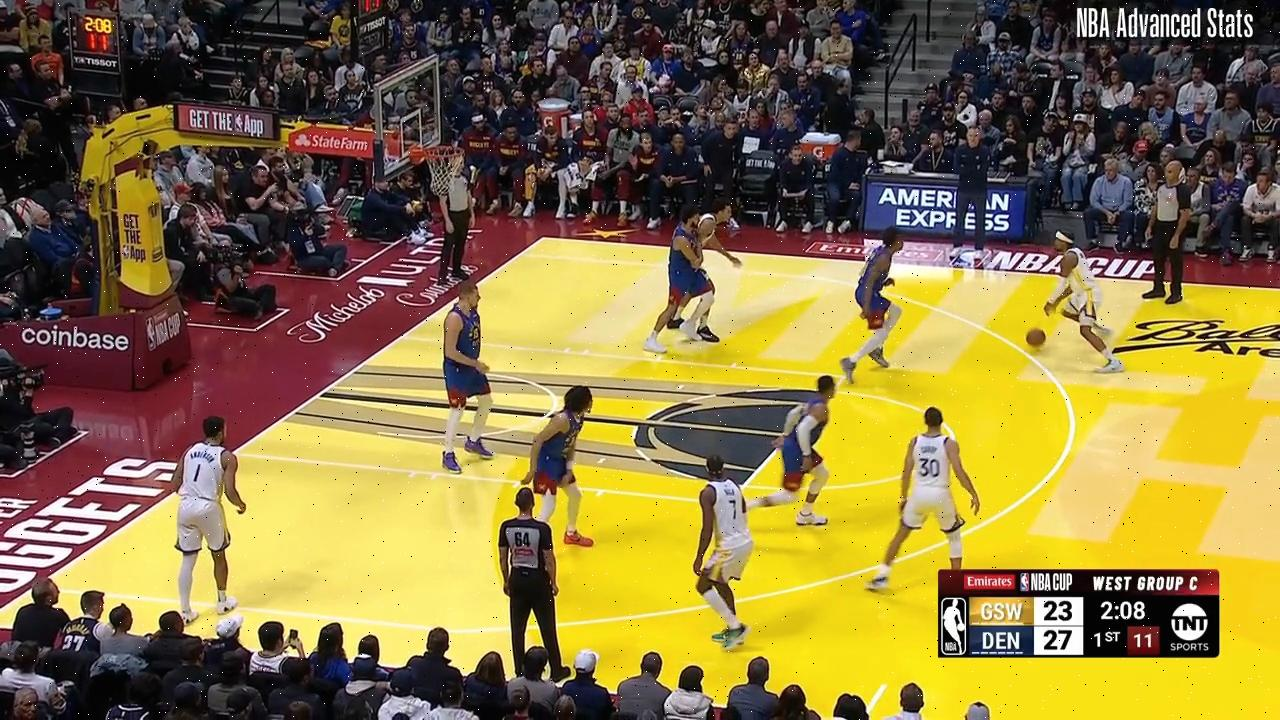basketball: (1024, 326, 1047, 349)
